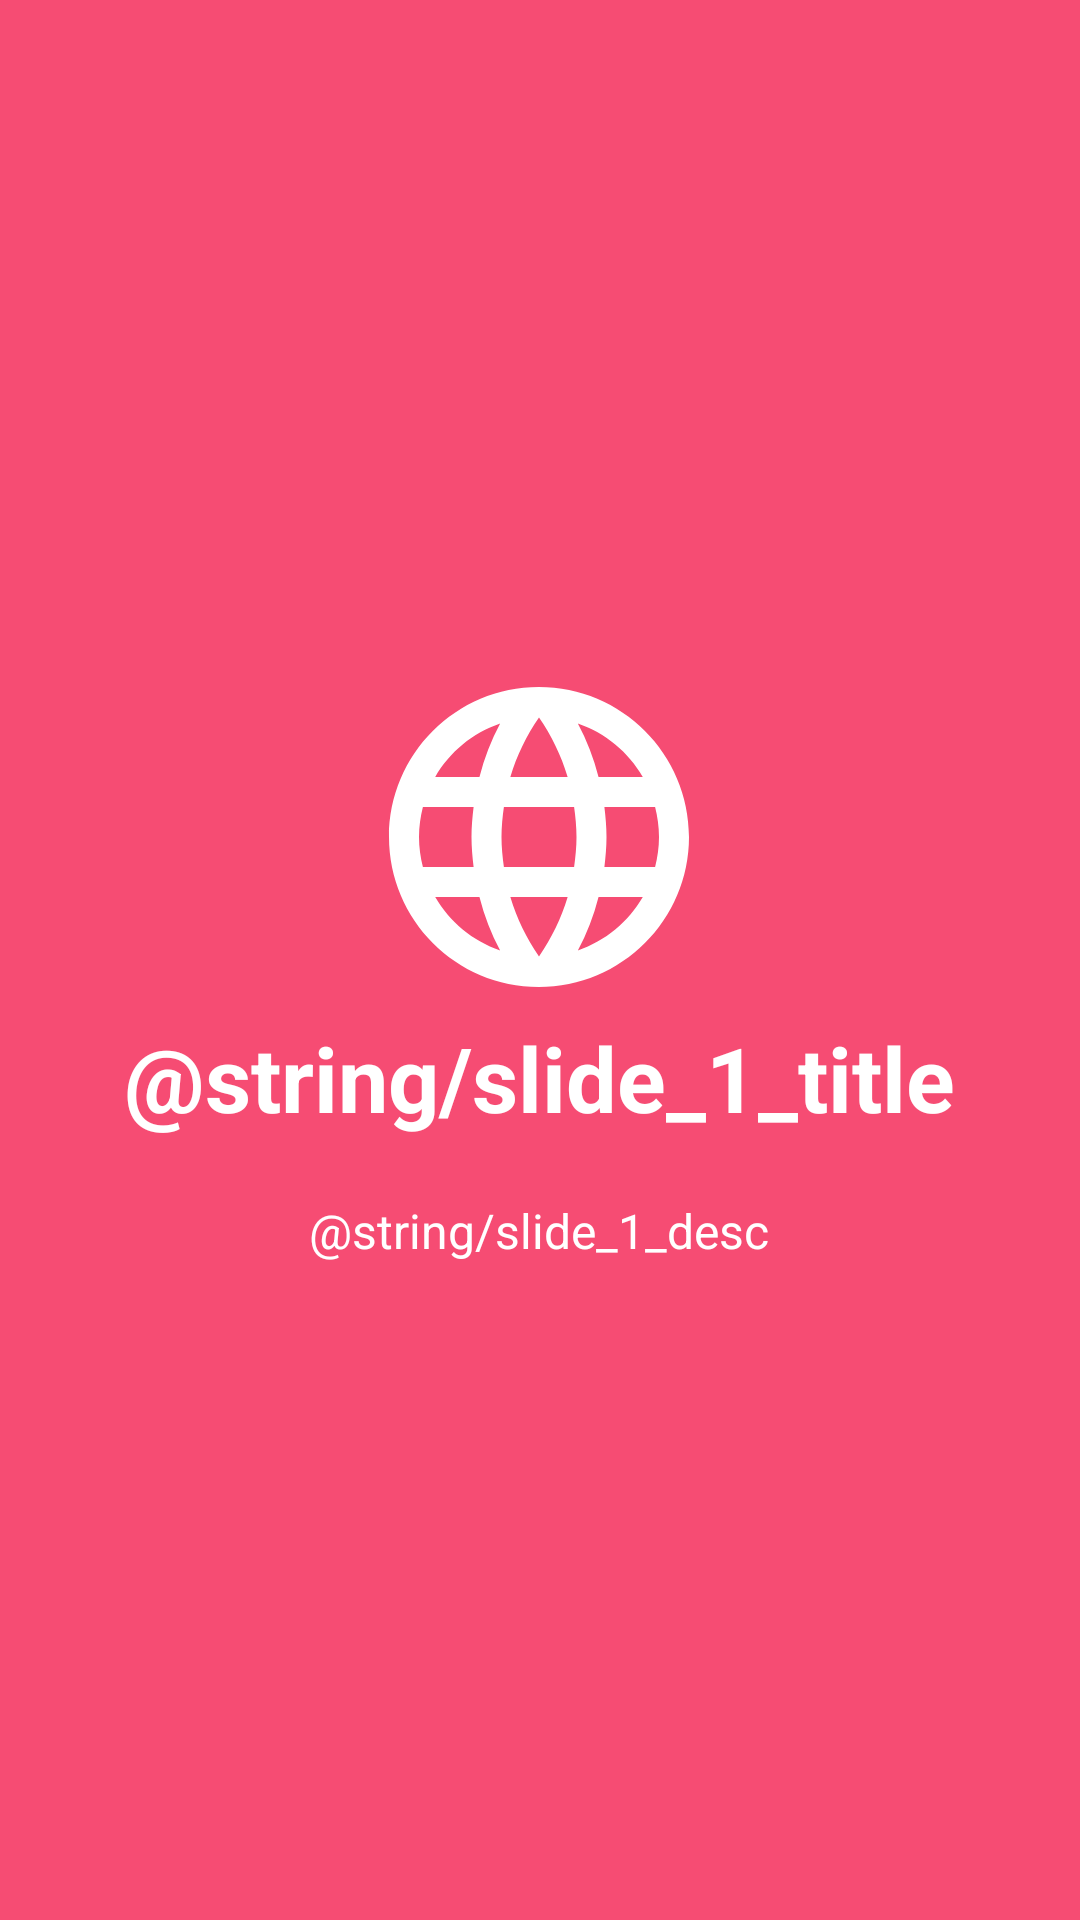

Where to tap for icons on this 1080 x 1920 app screen, as (x,y):
language: (539,837)
